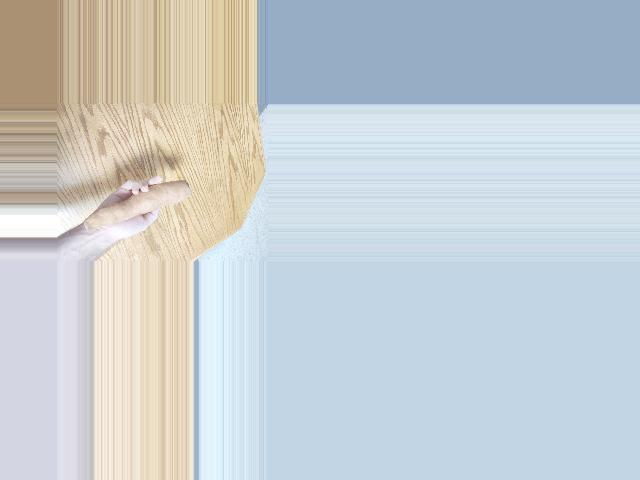sweet_potato: (82, 178, 192, 233)
